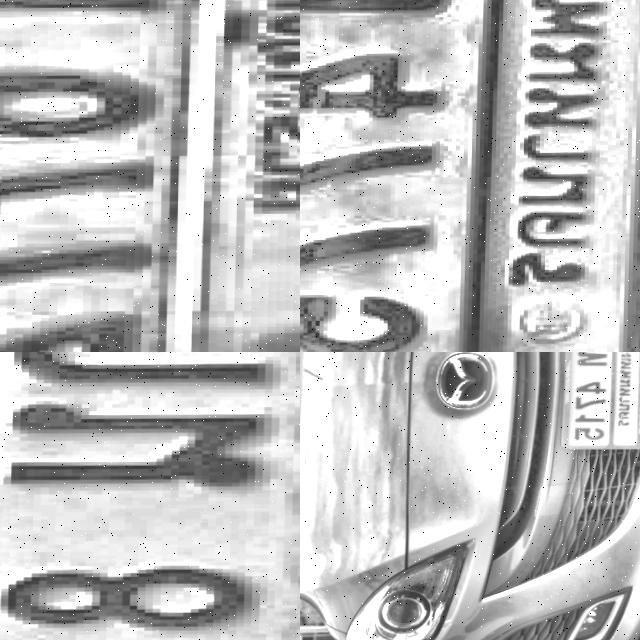license-plate: (300, 0, 640, 352), (0, 0, 300, 352), (0, 352, 300, 640), (555, 352, 640, 456)
